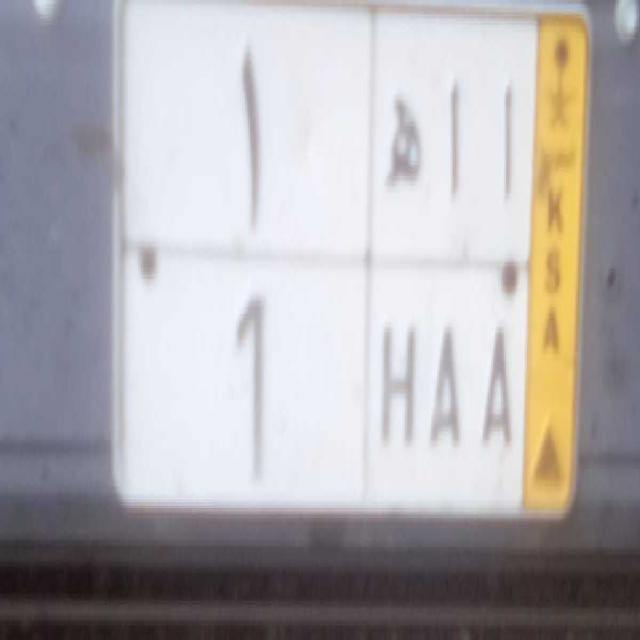license_plate: (123, 240, 526, 527)
